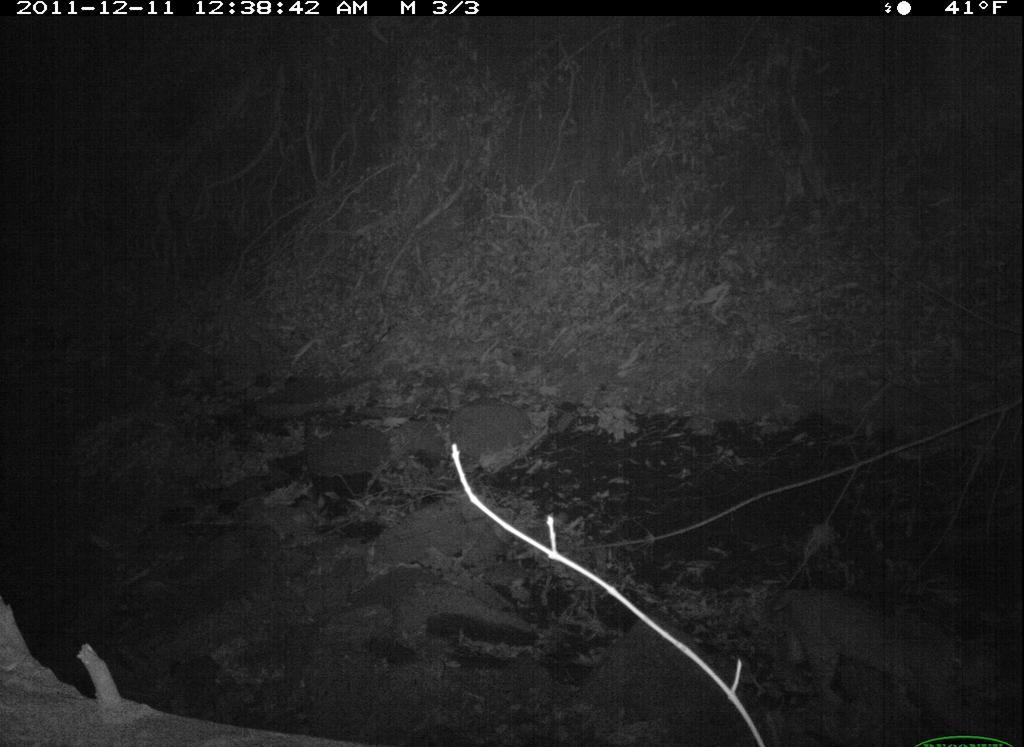bobcat: (762, 577, 985, 734)
